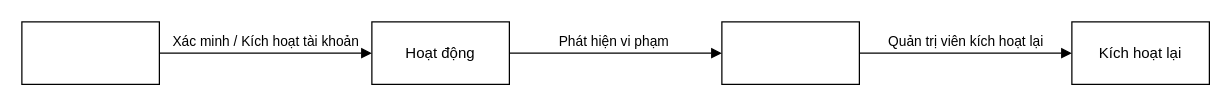
This 1231x106 diagram has some shape labels left out. Each missing label, with the centre of its shape:
"Bị khoá" belongs at (x=790, y=52).
"Mới tạo" belongs at (x=90, y=52).
